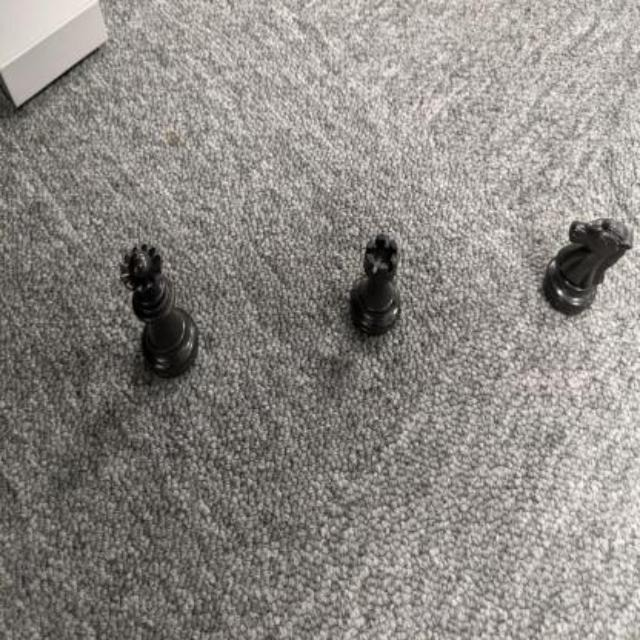black-knight: (542, 213, 632, 317)
black-queen: (117, 240, 200, 380)
black-rook: (347, 229, 403, 338)
